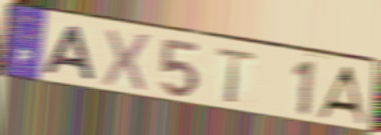1: (292, 59, 317, 117)
5: (156, 36, 204, 99)
A: (313, 65, 368, 128), (41, 24, 98, 84)
T: (213, 46, 260, 106)
X: (100, 27, 154, 95)
